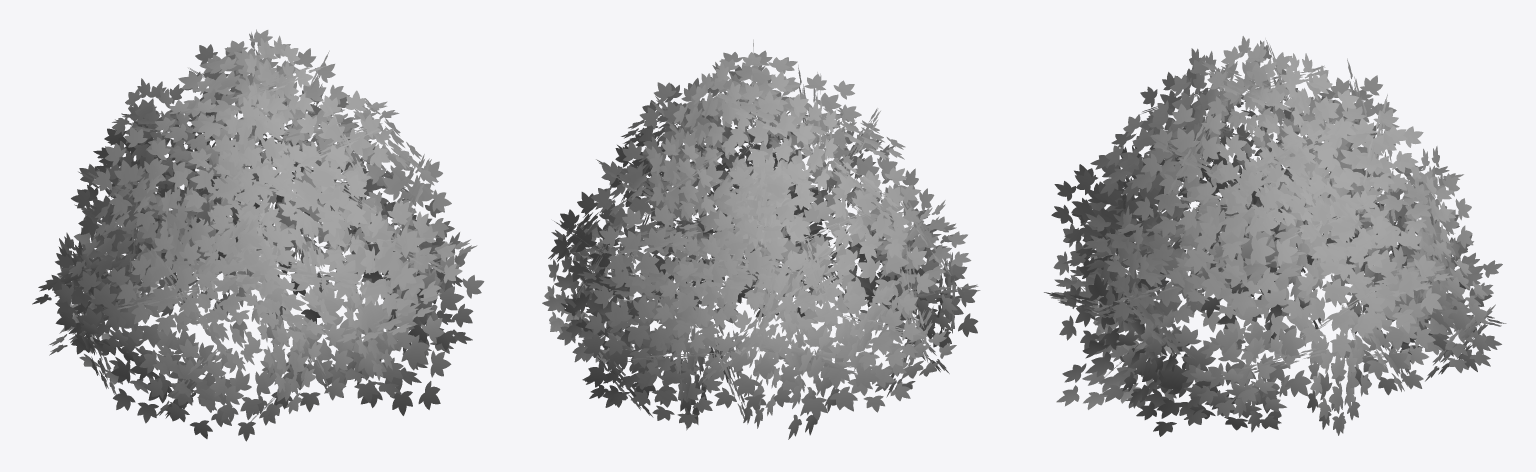
Rendered from b_plant_guanmu_01.fbx.
The picture shows the model from 3 angles, left to right: view 1: azimuth 30°, elevation 25°; view 2: azimuth 150°, elevation 25°; view 3: azimuth 270°, elevation 25°; orthographic projection. The views are drawn at different scales.
Parts seen in each view (by area): view 1: b_plant_guanmu_01; view 2: b_plant_guanmu_01; view 3: b_plant_guanmu_01.
Boxes of the visible parts, x1,y1,x2,y2 form: b_plant_guanmu_01: (32, 29, 484, 441); b_plant_guanmu_01: (542, 39, 980, 439); b_plant_guanmu_01: (1044, 36, 1506, 436).
Bounding box in the file's own units: 4224 × 3640 × 4387.
